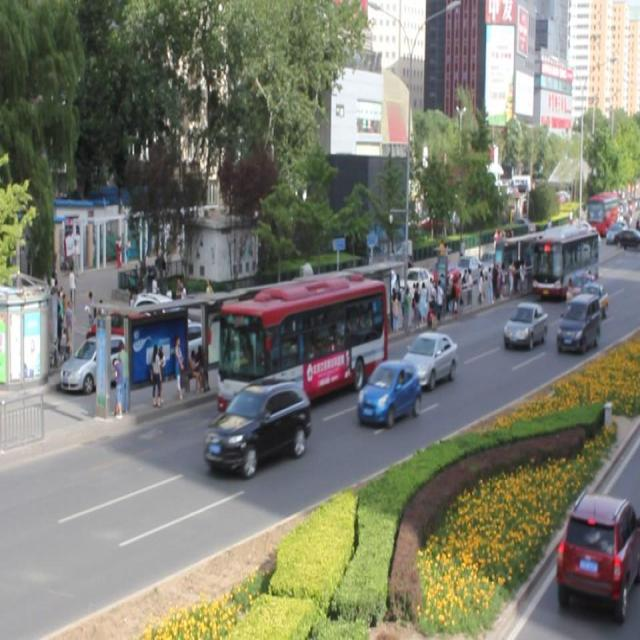car: (203, 377, 310, 469), (356, 357, 421, 426), (400, 331, 458, 390), (502, 302, 546, 348), (570, 281, 606, 316), (566, 273, 596, 308)
truck: (556, 292, 599, 350)
van: (217, 272, 384, 412), (531, 230, 597, 296)
